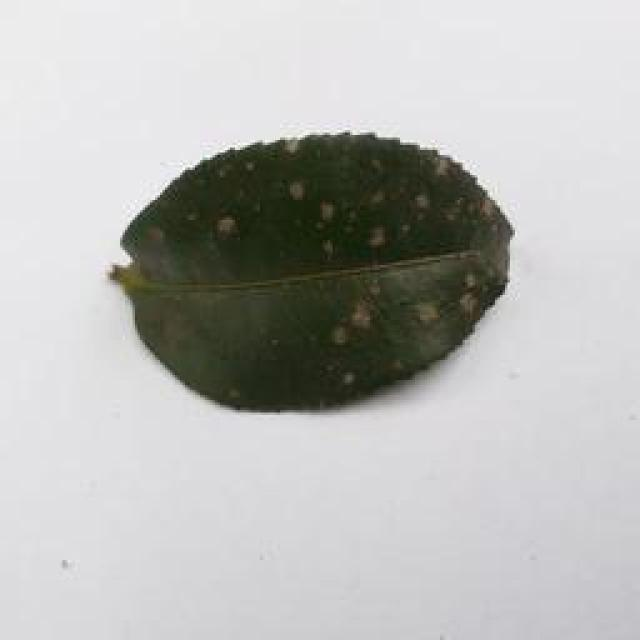Algal Leaf Spot: (106, 132, 534, 420)
